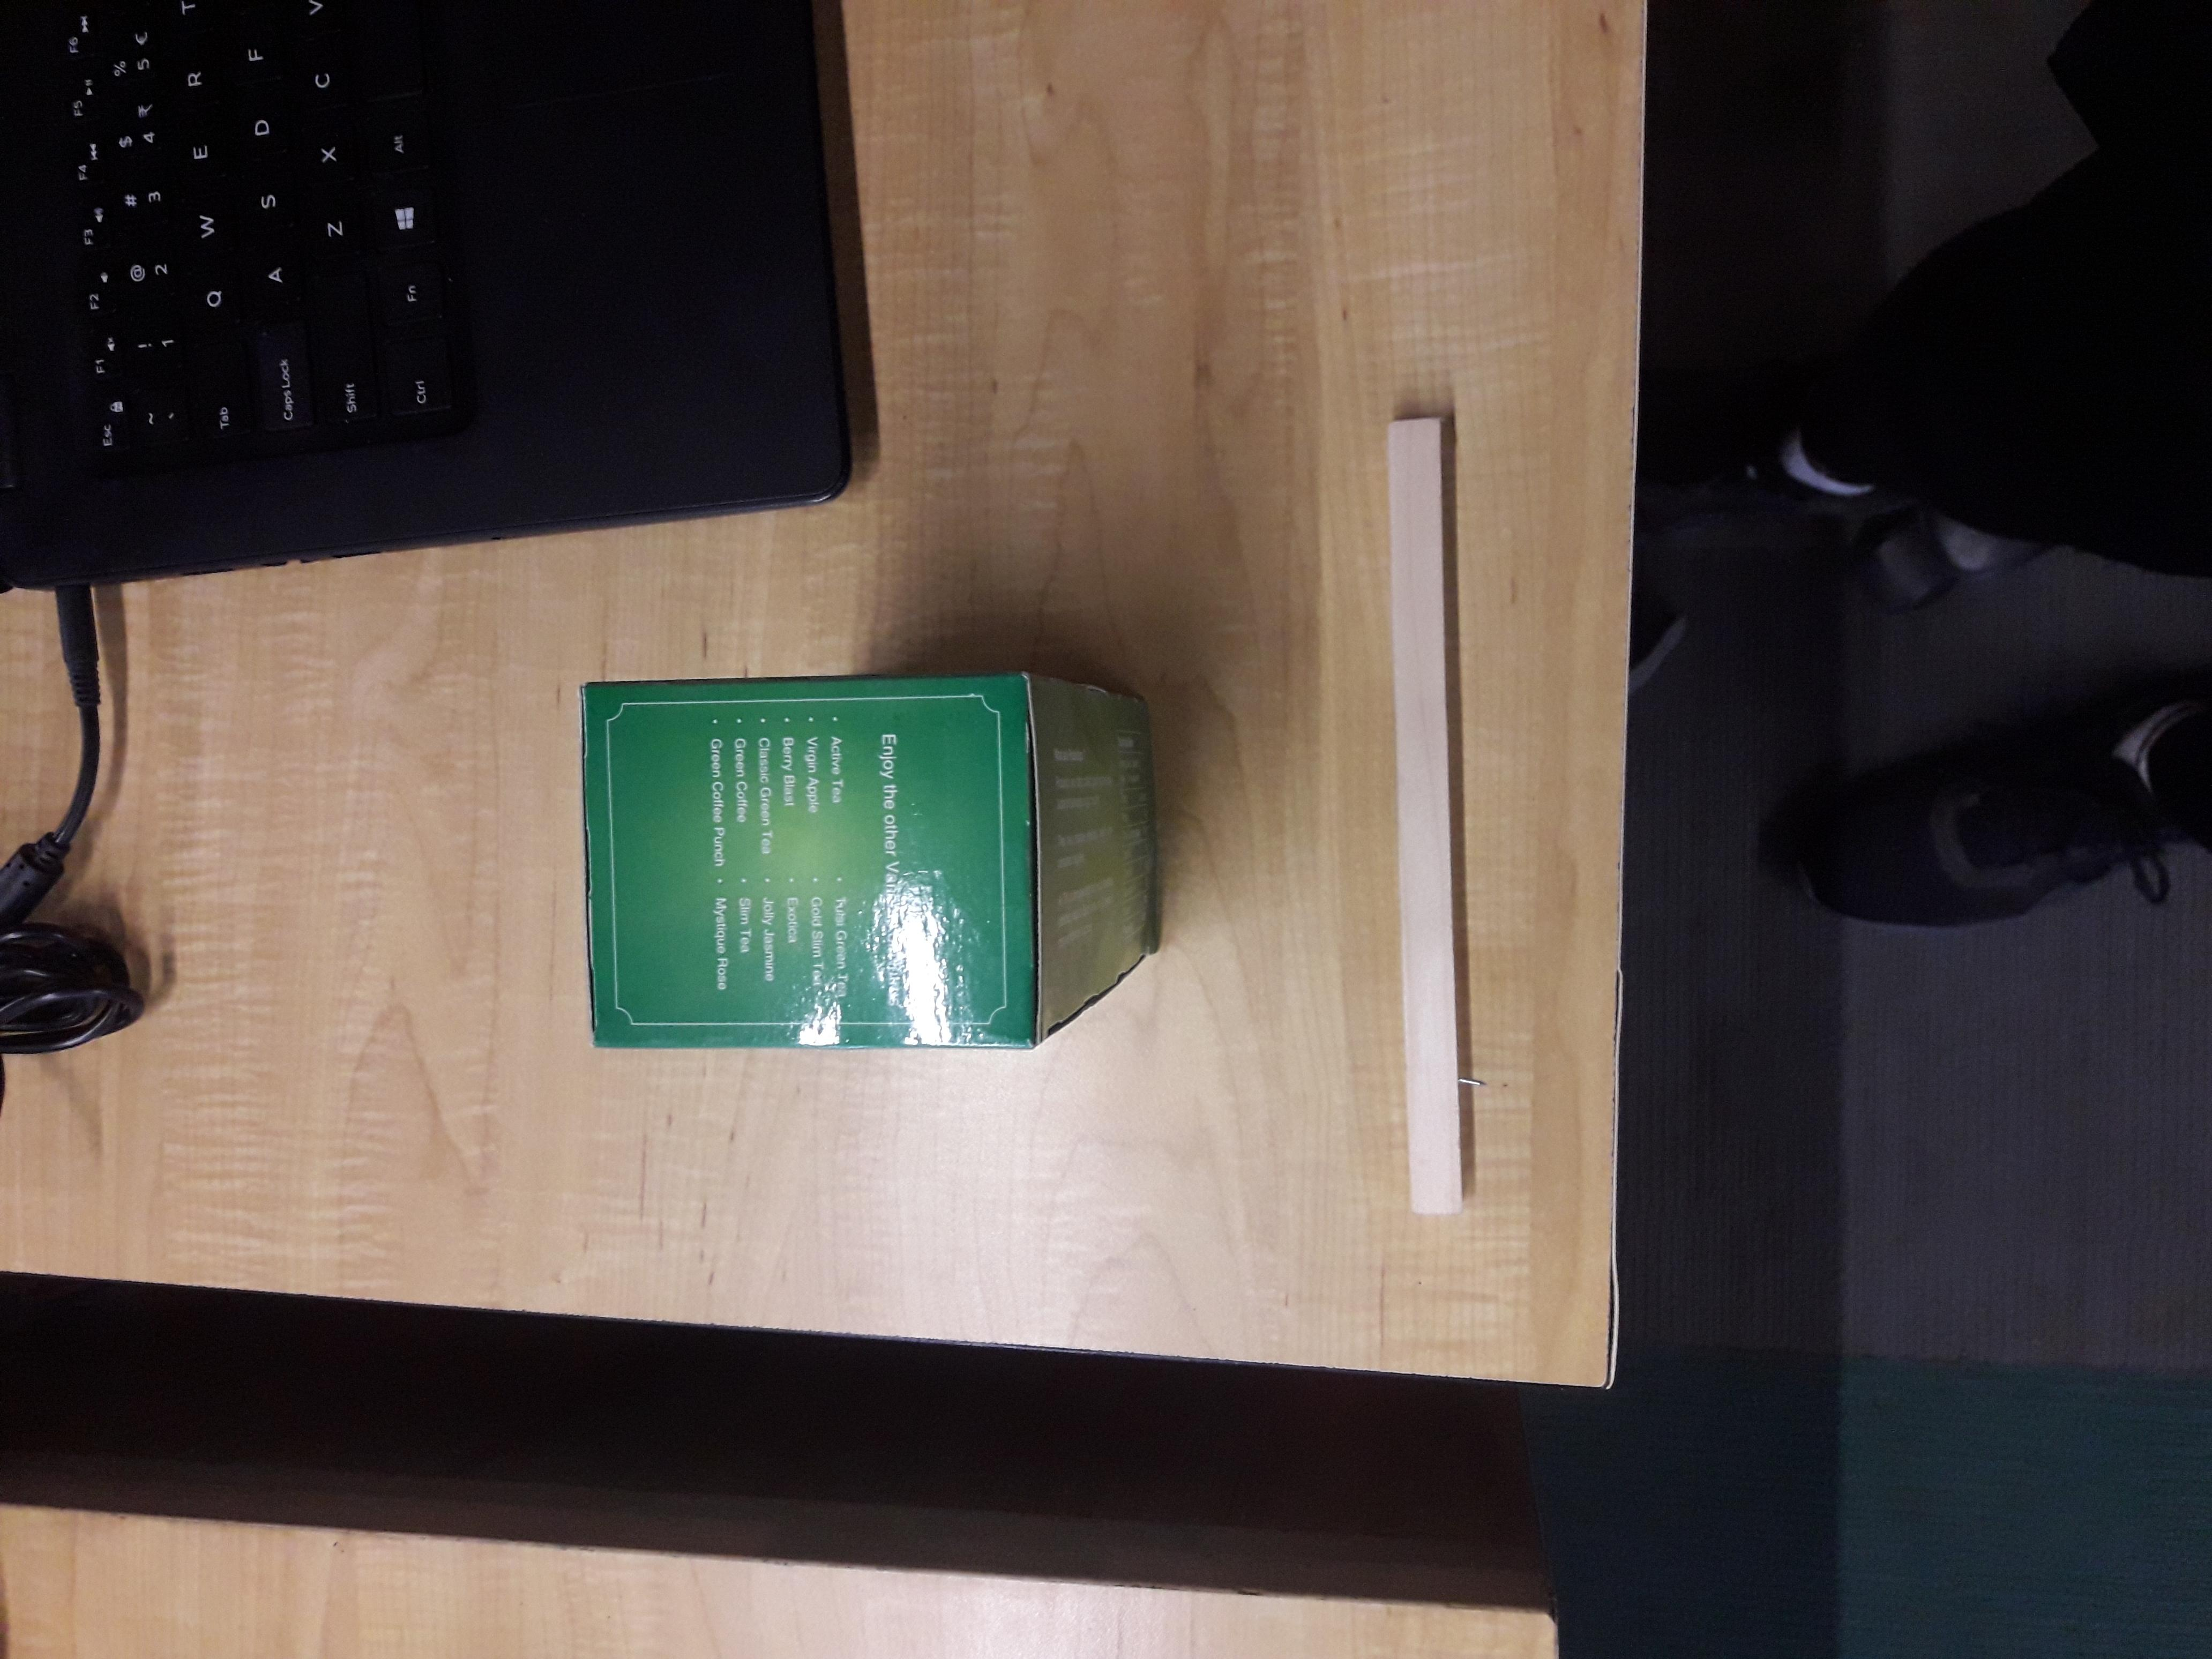object: (585, 680, 1043, 1044)
reference: (1388, 418, 1460, 1213)
